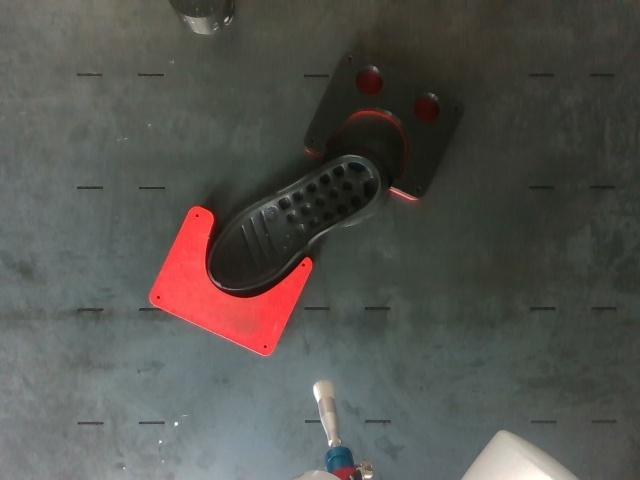shoes: (209, 155, 380, 289)
